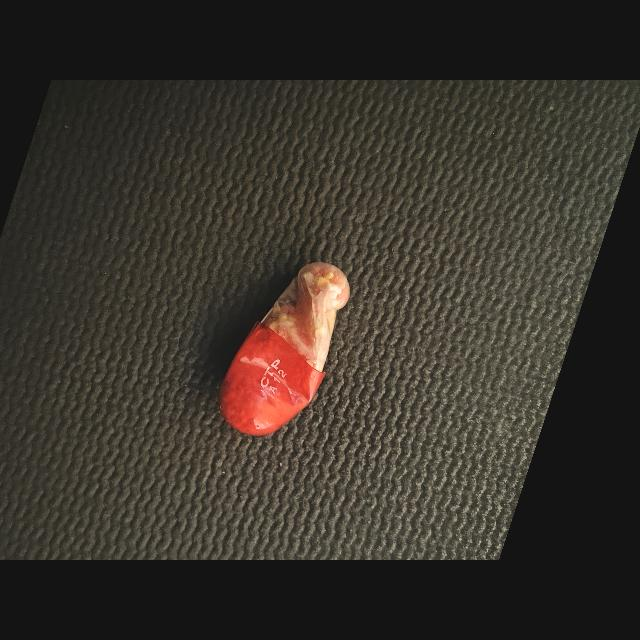Defective Capsule: (220, 263, 350, 436)
